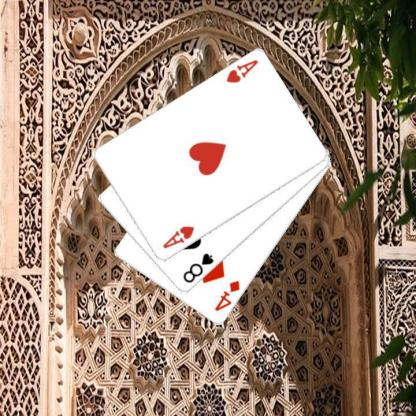4D: (212, 278, 242, 313)
8S: (180, 251, 216, 285)
AH: (224, 57, 260, 85), (160, 224, 196, 250)
